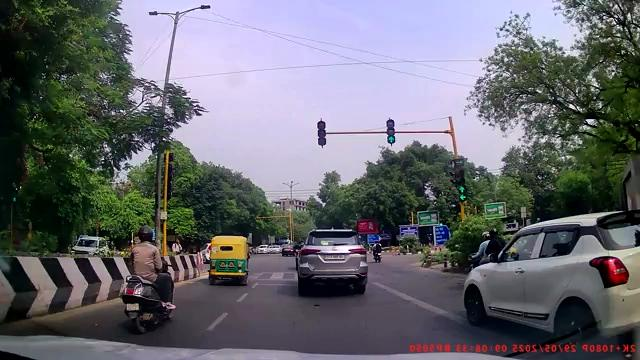motorcycle_with_helmet: (120, 223, 176, 334)
